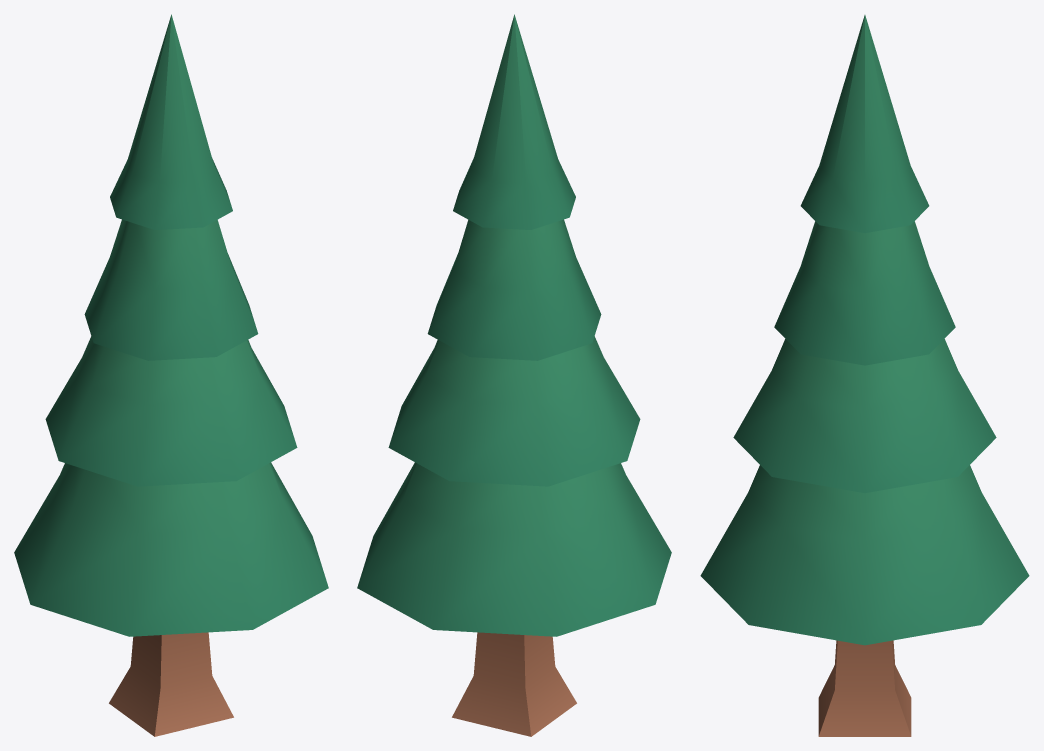
The model's file is T_tree.glb.
3 renders of one model, left to right at view 1: azimuth 30°, elevation 25°; view 2: azimuth 150°, elevation 25°; view 3: azimuth 270°, elevation 25°, orthographic.
Visible parts, largest first — view 1: tree; view 2: tree; view 3: tree.
Boxes of the visible parts, bbox=[...] form: tree: bbox=[14, 14, 328, 736]; tree: bbox=[357, 14, 671, 736]; tree: bbox=[700, 15, 1029, 736].
Size of the model in its own units: 1.02 by 2.41 by 1.02.
